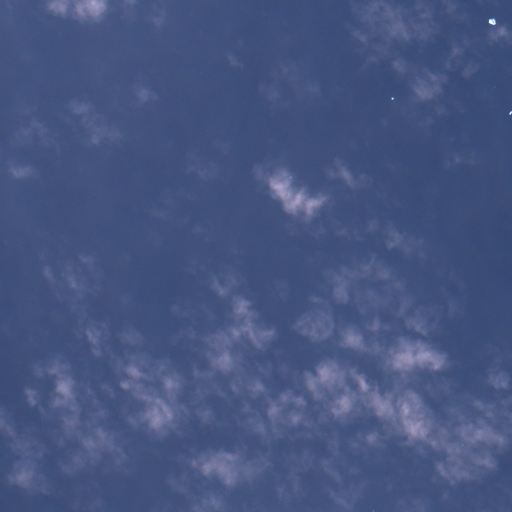Iceberg: (488, 18, 495, 24), (509, 111, 511, 114), (391, 97, 393, 99)
